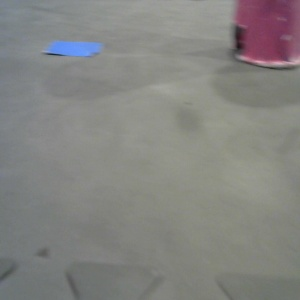middle: (1, 1, 76, 73)
